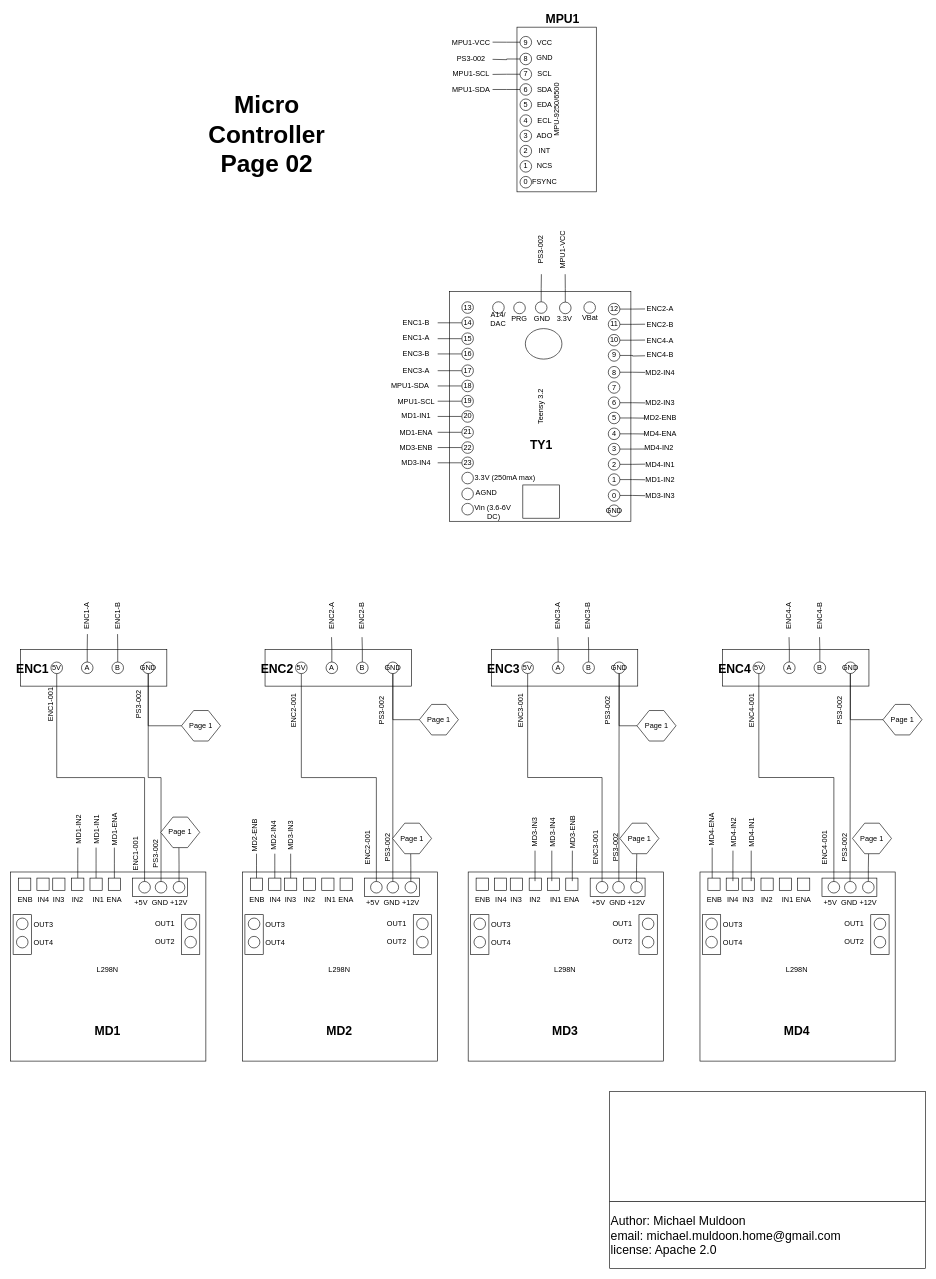
This 936x1279 diagram has some shape labels left out. The centre of each missing label's shape, as x and y in pixels:
Notes: - Motor connection outlined on Page 1 Power Distribution: the point at 767,1146
PB: the point at 543,343
USB: the point at 540,501
